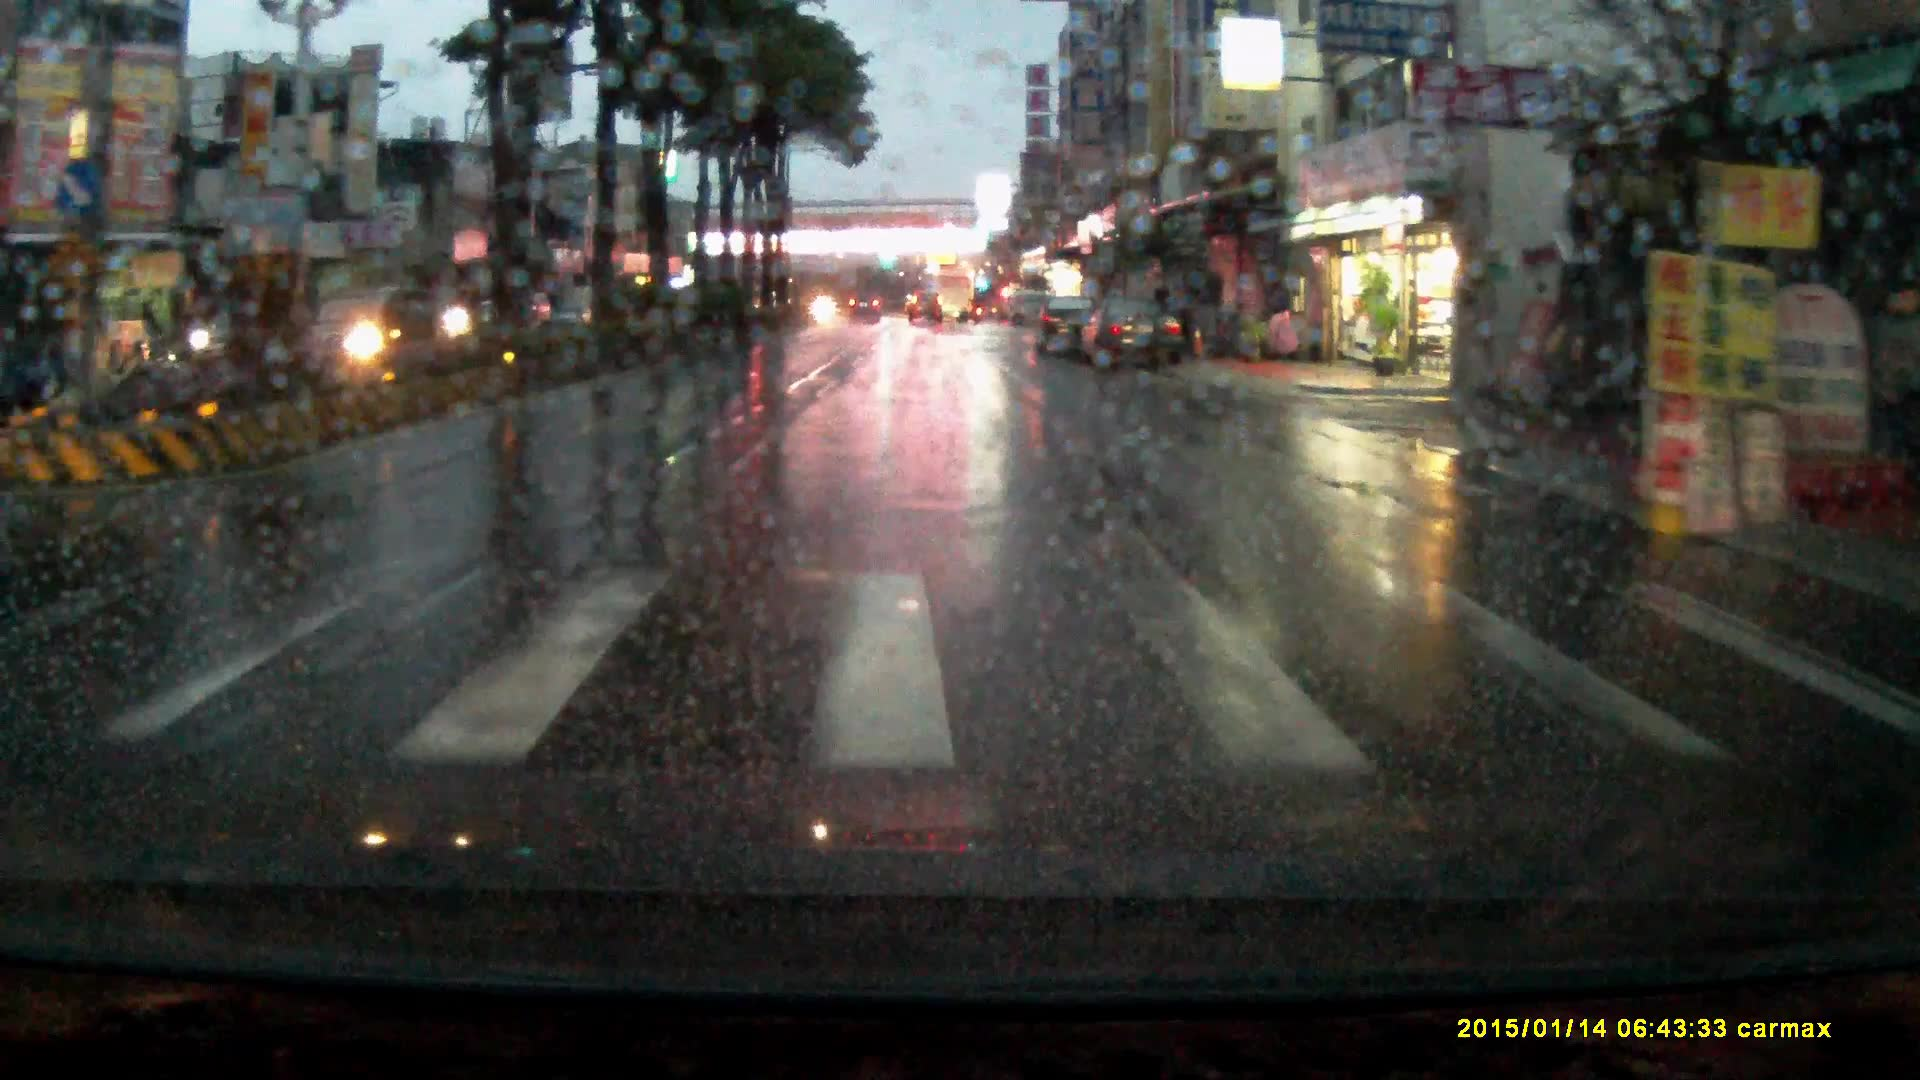rider: (436, 250, 506, 379)
vehicle: (1, 230, 183, 415), (302, 282, 457, 370), (1076, 300, 1186, 376), (195, 308, 260, 366), (1036, 298, 1097, 359), (922, 262, 973, 325), (909, 291, 945, 328), (849, 292, 881, 322)
